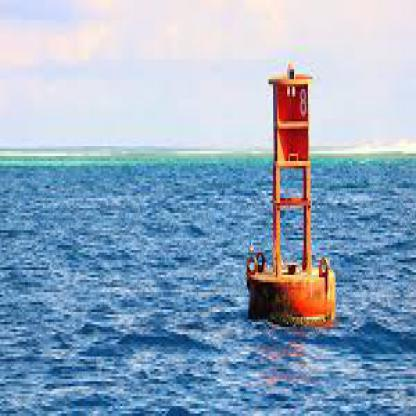buoy: (235, 57, 342, 334)
